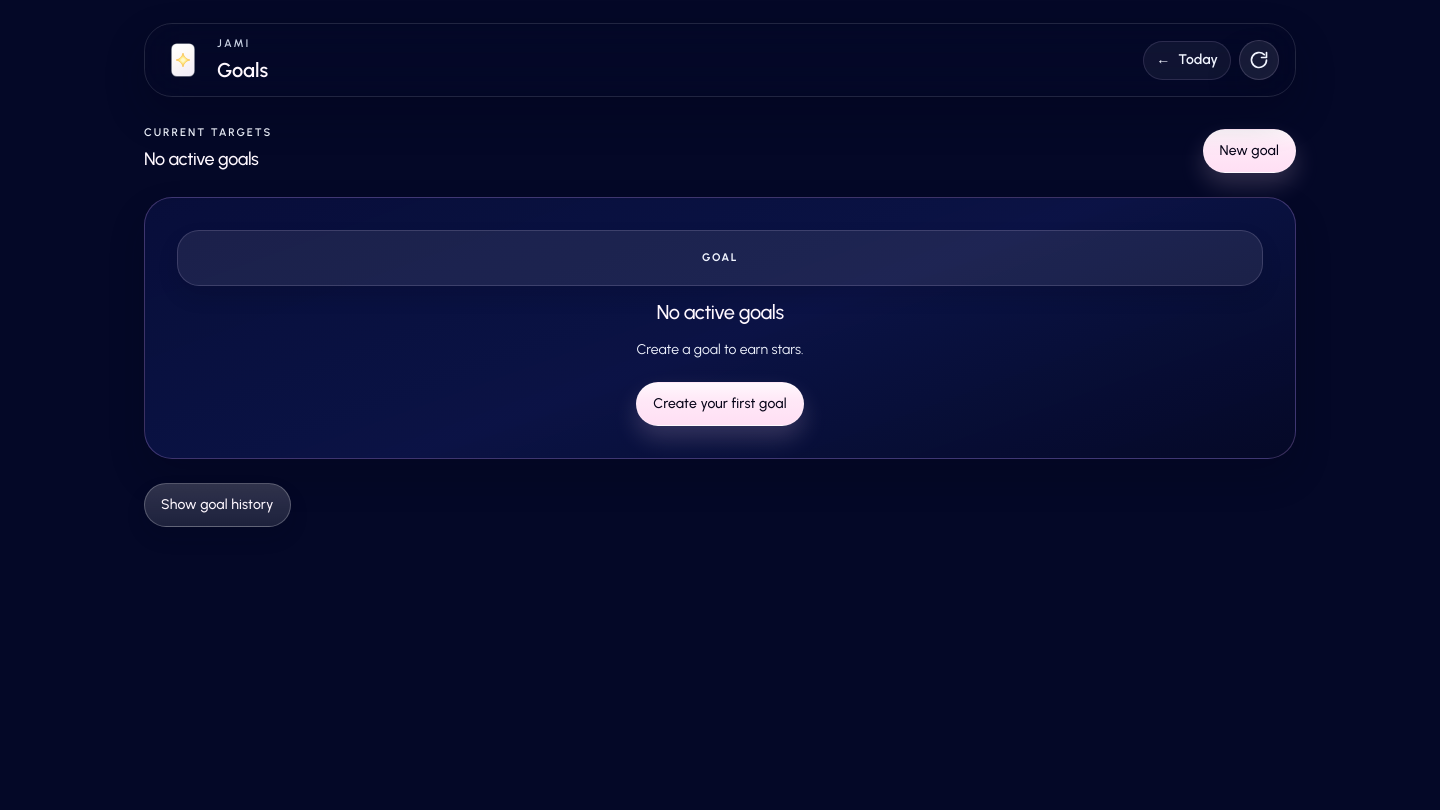
goals deadline layout › renders the composer through its container-query layout contract
The image size is (1440, 810).
Click the button "New goal" at (1249, 151), box [1202,129,1296,173]
(page scrolled)
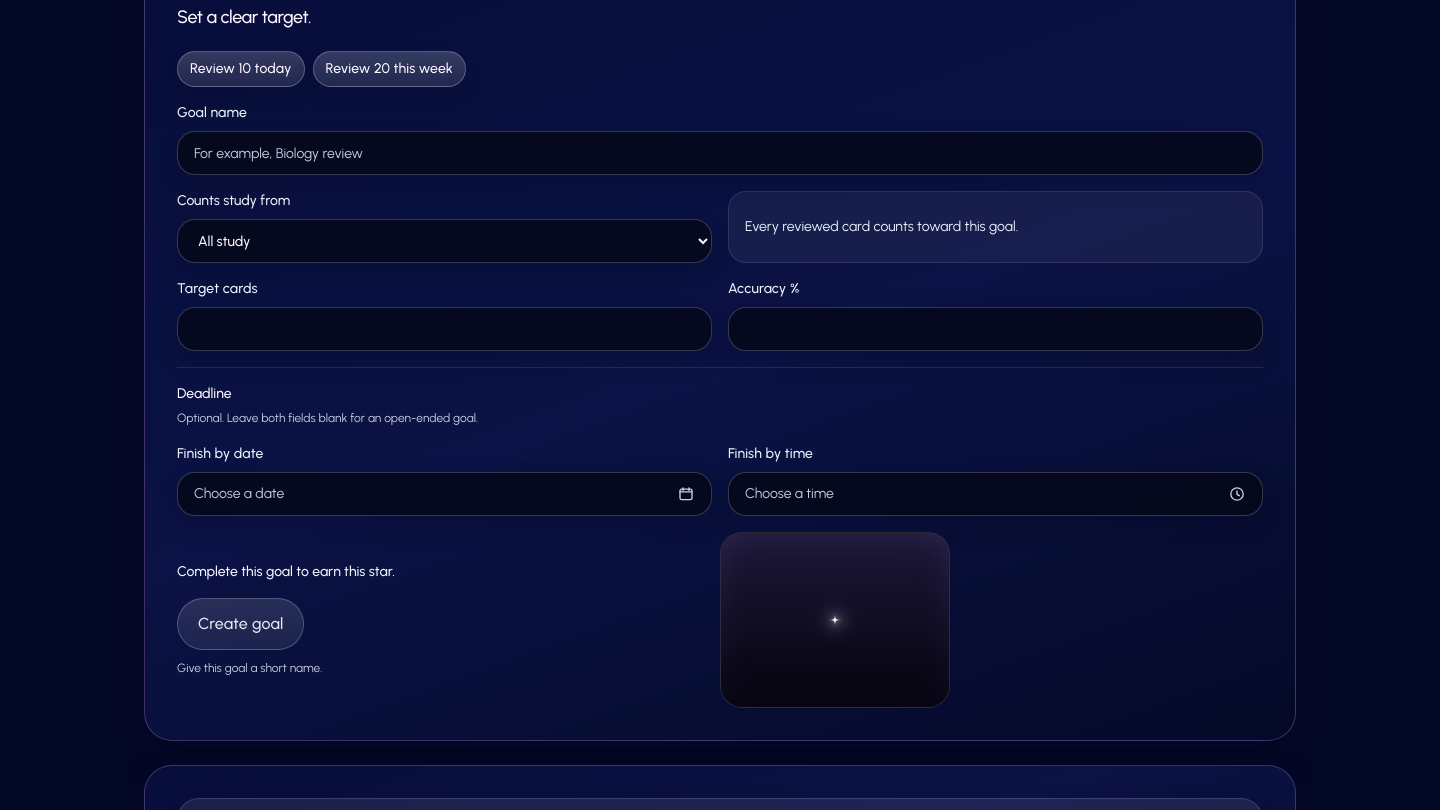
Check: the element with class "goal-form-grid" is shown, box [177,103,1263,708]
